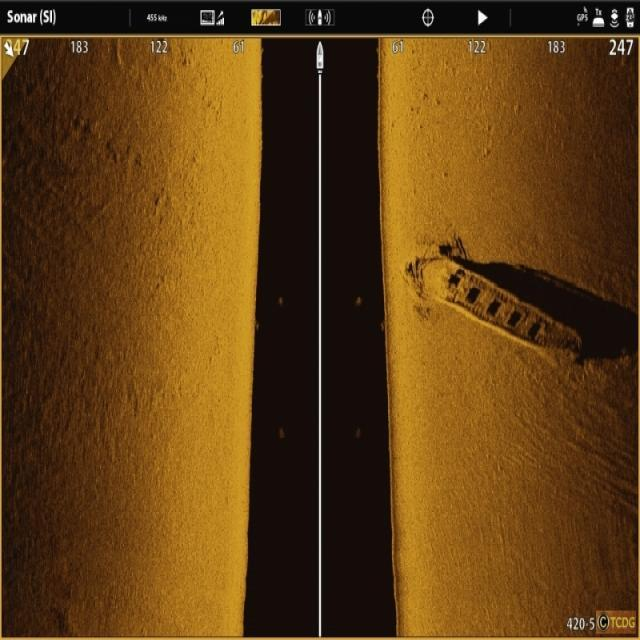shipwreck: (407, 243, 582, 375)
